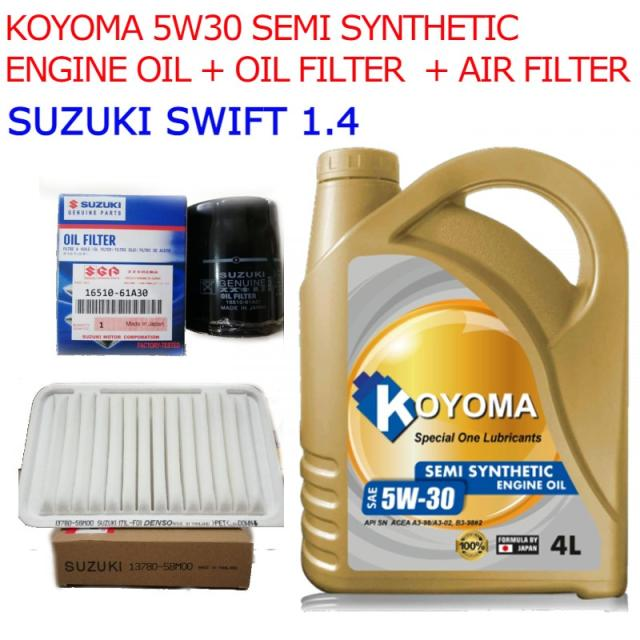air_filter: (14, 378, 287, 532)
motor_oil: (298, 143, 630, 603)
oil_filter: (188, 190, 282, 344)
